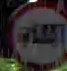Heavy Vehicles: (6, 0, 66, 67)
